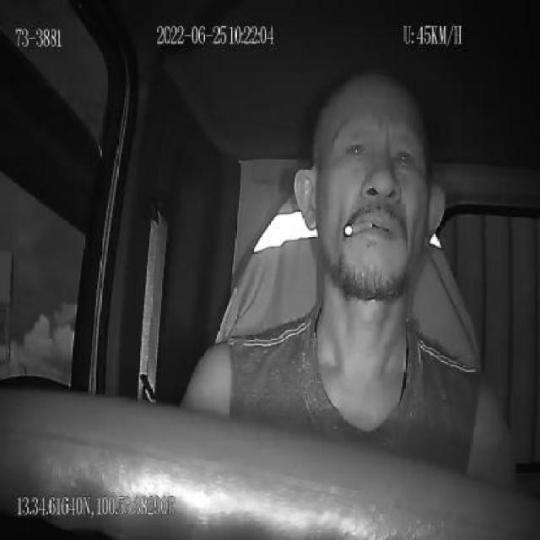smoking: (343, 222, 371, 238)
